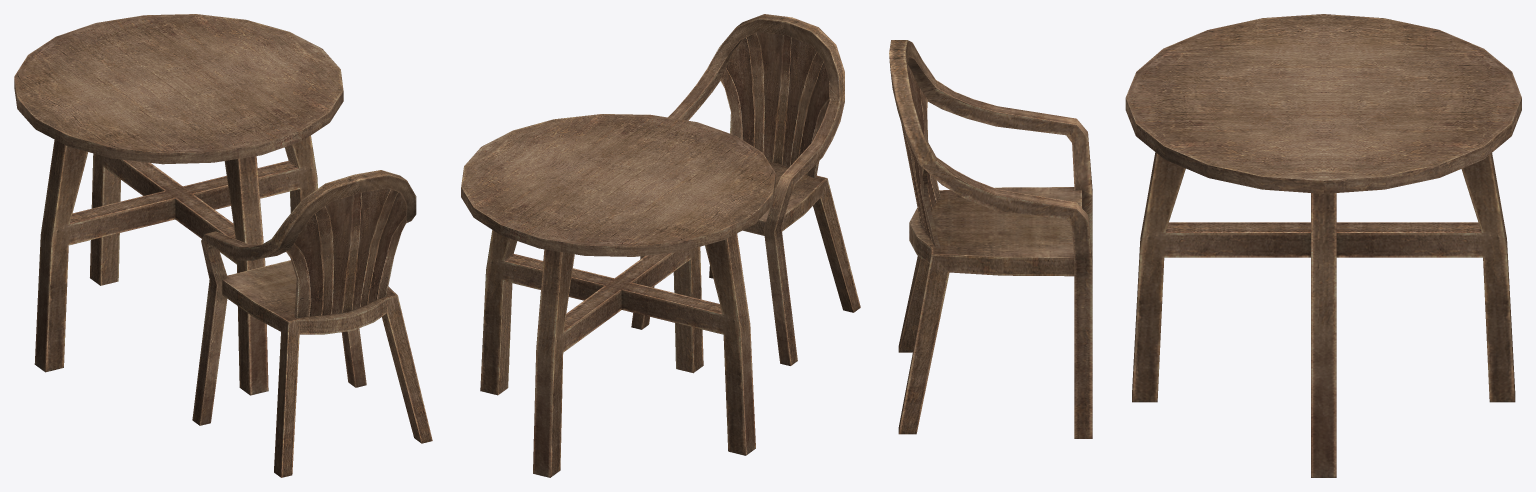
The model's file is table_and_chair.FBX.
3 views of the same model, side by side, from view 1: azimuth 30°, elevation 25°; view 2: azimuth 150°, elevation 25°; view 3: azimuth 270°, elevation 25° (orthographic). The views are drawn at different scales.
Parts seen in each view (by area): view 1: table, chair; view 2: table, chair; view 3: table, chair.
Part boxes in pixels (x1=…): table: x1=14, y1=14, x2=343, y2=395; chair: x1=192, y1=170, x2=432, y2=477; table: x1=461, y1=114, x2=775, y2=477; chair: x1=631, y1=14, x2=860, y2=365; table: x1=1125, y1=14, x2=1521, y2=477; chair: x1=889, y1=40, x2=1092, y2=438.
Size of the model in its own units: 93.66 by 150 by 89.88.
